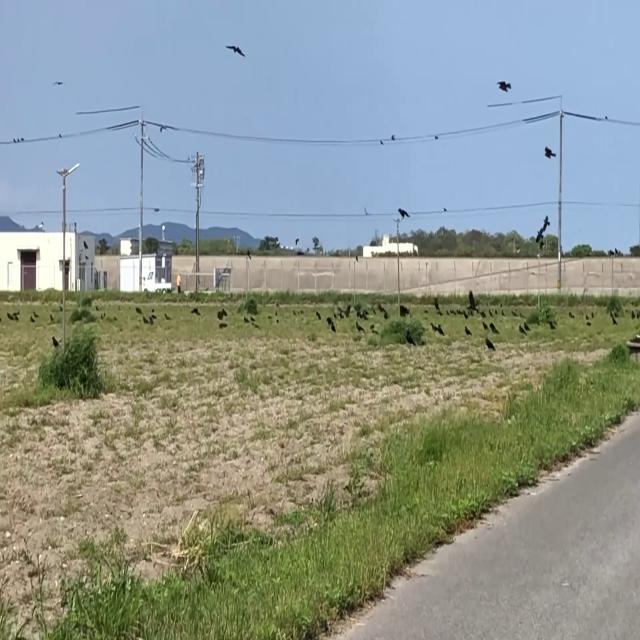bird: (226, 36, 244, 65), (498, 72, 511, 98), (544, 140, 555, 162), (398, 202, 408, 224), (468, 288, 476, 314), (487, 331, 492, 354), (489, 325, 494, 346), (490, 320, 495, 339), (520, 323, 524, 338), (444, 204, 447, 216)
